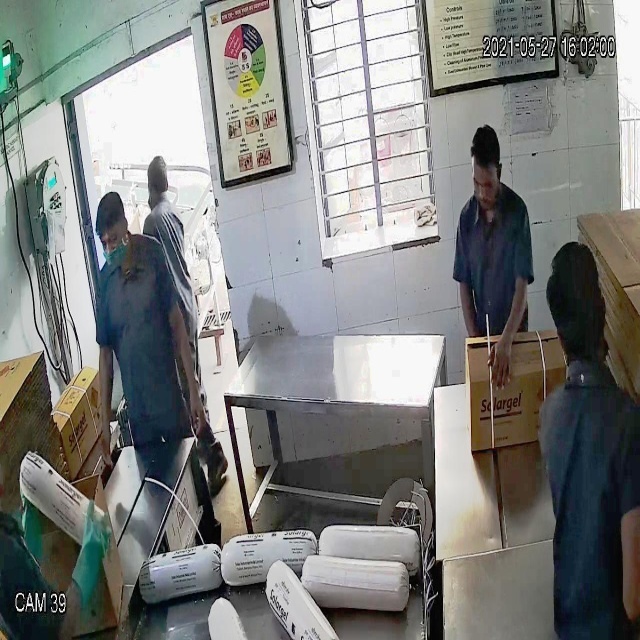Sin_gafas: (467, 165, 503, 200), (94, 223, 130, 255)
